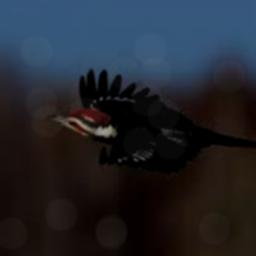Woodpecker: (45, 68, 256, 174)
